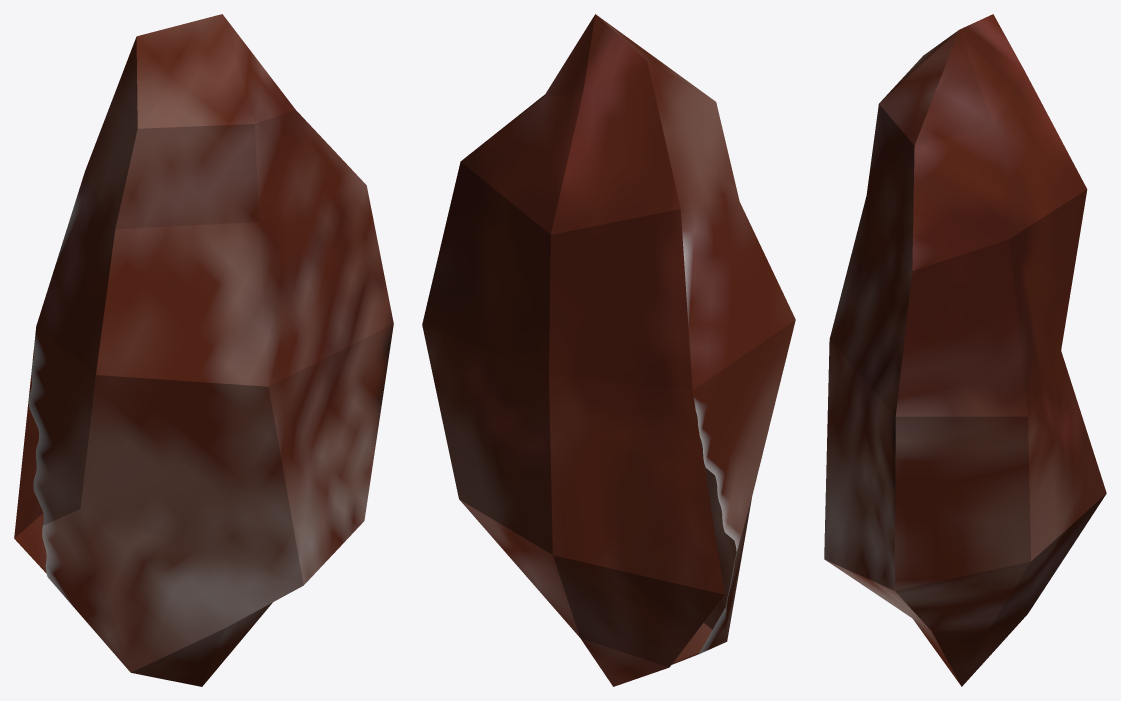
File: bloody pieces3.fbx
3 views of the same model, side by side, from view 1: azimuth 30°, elevation 25°; view 2: azimuth 150°, elevation 25°; view 3: azimuth 270°, elevation 25° (orthographic).
Visible parts, largest first — view 1: Sphere.001; view 2: Sphere.001; view 3: Sphere.001.
Boxes of the visible parts, <box> form: Sphere.001: <box>14,14,393,686</box>; Sphere.001: <box>422,14,795,686</box>; Sphere.001: <box>824,14,1106,686</box>.
Size of the model in its own units: 105 by 218 by 83.85.
Materials: 1 (1 with a texture image).
